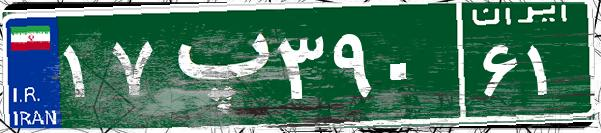0: (385, 28, 445, 110)
1: (57, 26, 110, 107), (525, 38, 570, 115)
3: (273, 28, 330, 110)
6: (475, 38, 525, 113)
7: (110, 28, 158, 105)
9: (330, 28, 385, 110)
پ: (158, 15, 273, 115)
